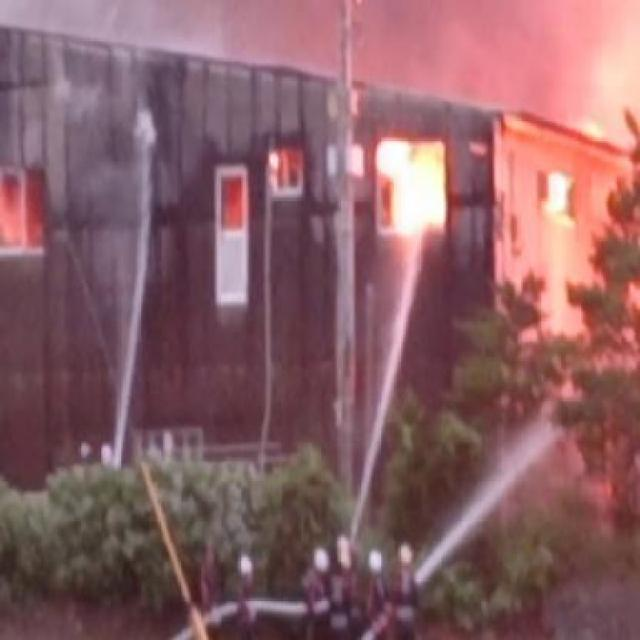Fire: (376, 135, 446, 234)
